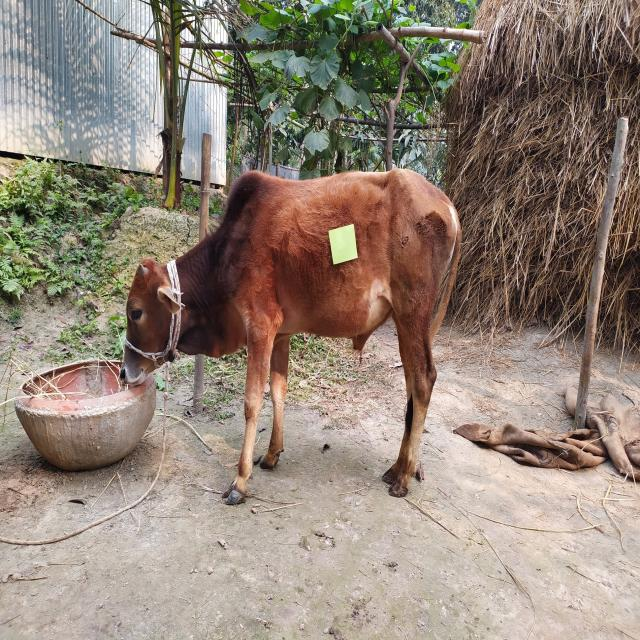badan_sapi: (228, 176, 443, 352)
sapi: (115, 165, 464, 506)
